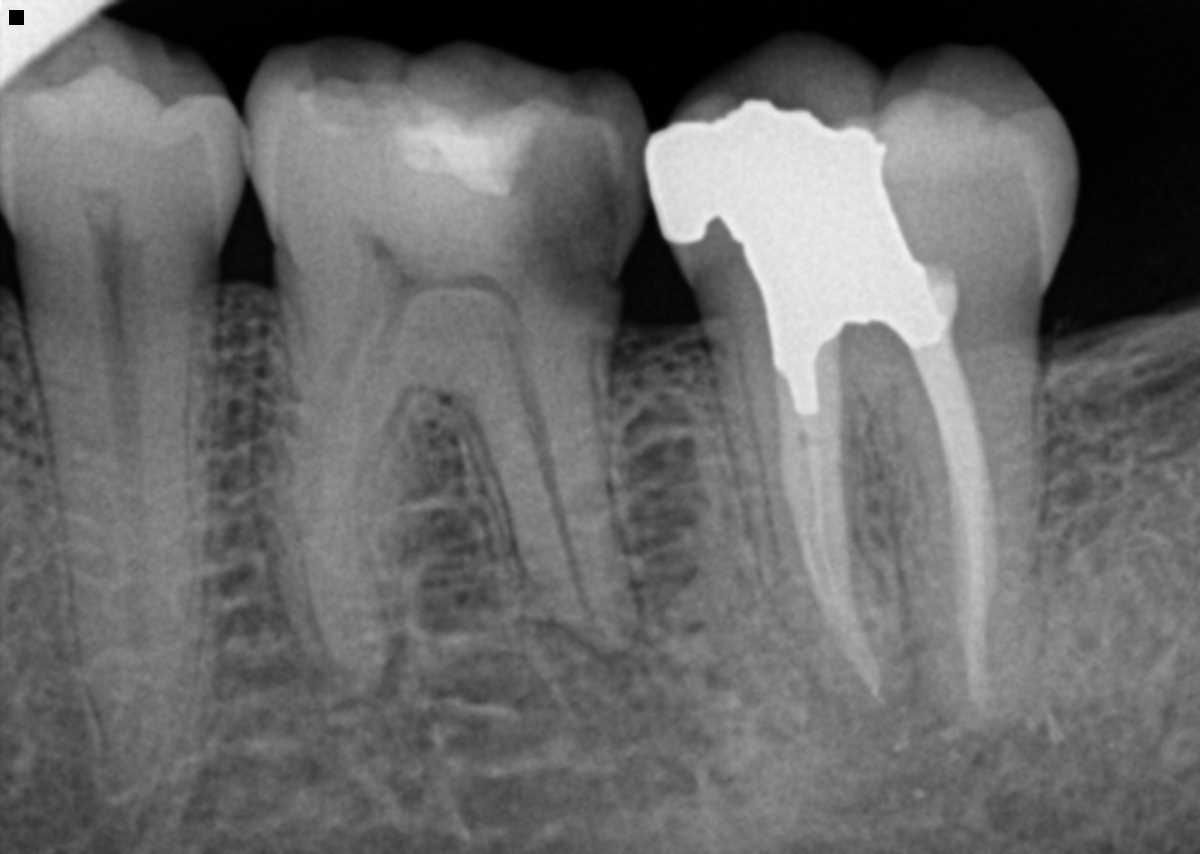Apical Lesion: (525, 601, 690, 744), (341, 635, 416, 724)
Distal Canal: (510, 353, 603, 635)
Distal Root: (878, 347, 1042, 739), (460, 323, 640, 652)
Main Canal: (94, 291, 149, 749)
Main Root: (21, 277, 218, 796)
Mesial Root: (709, 342, 909, 704), (256, 324, 414, 696)
Root Canal Filling: (772, 341, 885, 699), (915, 333, 997, 725)
decay: (492, 121, 635, 326)
